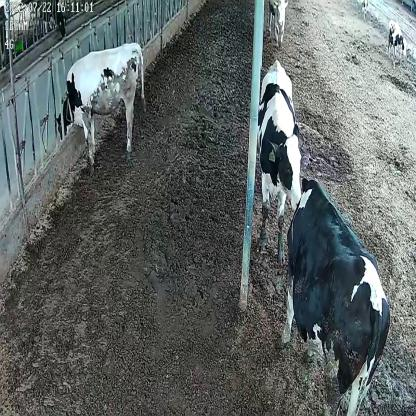cow: (280, 172, 390, 415), (53, 40, 147, 177), (258, 57, 303, 271), (268, 0, 288, 48)
